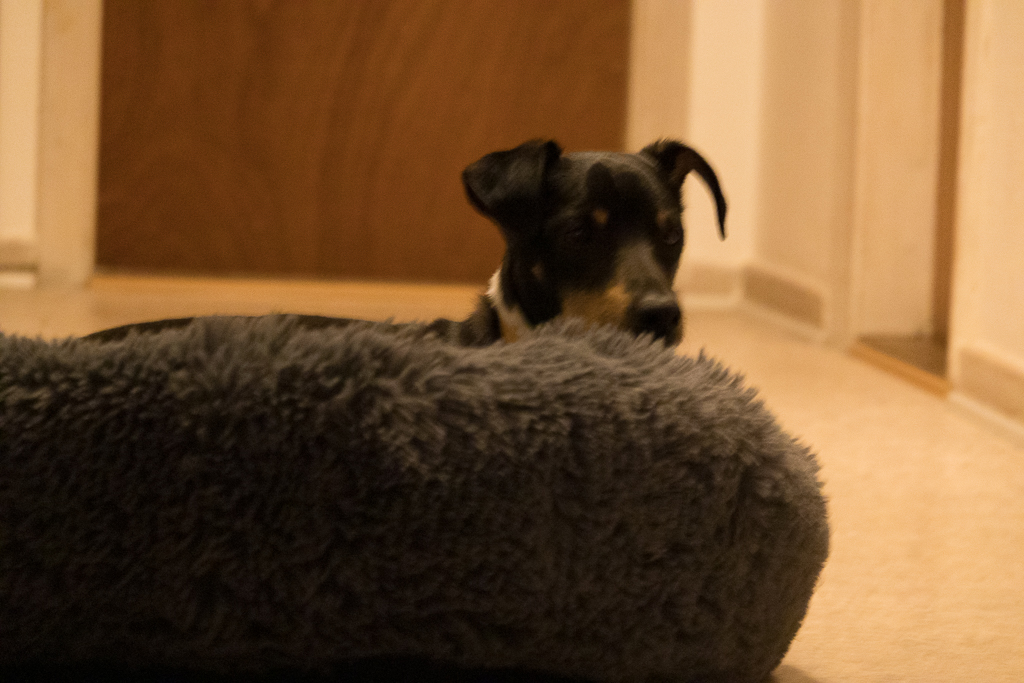Dog: (66, 133, 734, 363)
